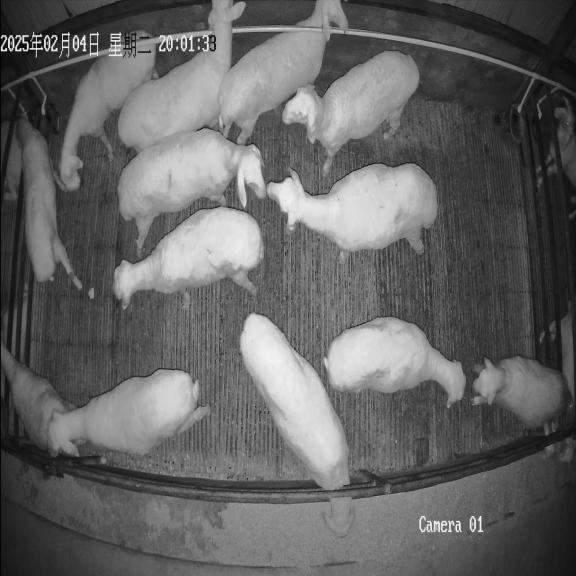drinking: (15, 115, 82, 290)
eating: (240, 313, 353, 537)
stand: (118, 0, 245, 153), (218, 0, 348, 144), (118, 128, 266, 252), (268, 163, 438, 263), (282, 51, 419, 175), (55, 30, 159, 191), (113, 207, 264, 309), (48, 369, 210, 456), (324, 317, 466, 407), (473, 356, 573, 435), (1, 343, 74, 450)
